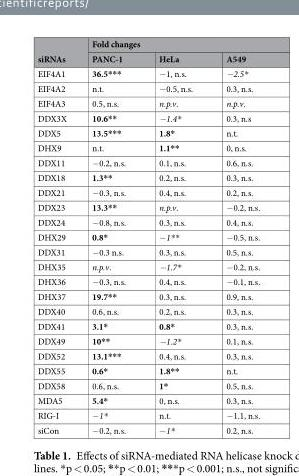table: (36, 37, 259, 436)
table column: (141, 37, 208, 436), (78, 37, 141, 436), (208, 37, 259, 436), (36, 37, 78, 436)
table column header: (36, 37, 259, 65)
table row: (36, 65, 259, 81), (36, 169, 259, 185), (36, 228, 259, 244), (36, 258, 259, 274), (36, 288, 259, 304), (36, 50, 259, 65), (36, 95, 259, 110), (36, 110, 259, 125), (36, 125, 259, 140), (36, 140, 259, 155), (36, 199, 259, 214), (36, 318, 259, 333), (36, 333, 259, 348), (36, 348, 259, 363), (36, 363, 259, 378), (36, 392, 259, 407), (36, 407, 259, 422), (36, 81, 259, 95), (36, 155, 259, 169), (36, 185, 259, 199), (36, 214, 259, 228), (36, 244, 259, 258), (36, 274, 259, 288), (36, 304, 259, 318), (36, 378, 259, 392), (36, 422, 259, 436), (36, 37, 259, 50)
table spanning cell: (78, 37, 259, 50), (36, 37, 78, 65)
